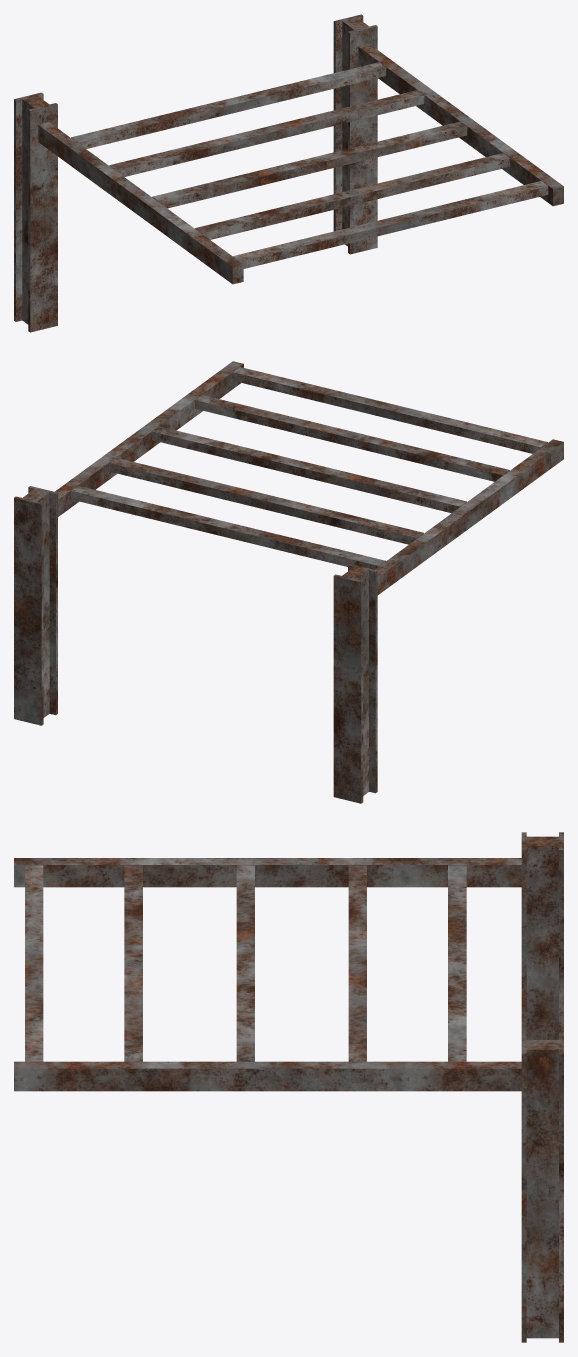
File: refinery_scaffolding.glb
The picture shows the model from 3 angles, top to bottom: view 1: azimuth 30°, elevation 25°; view 2: azimuth 150°, elevation 25°; view 3: azimuth 270°, elevation 25°; orthographic projection. The views are drawn at different scales.
Visible parts, largest first — view 1: Prop.refinery_scaffolding; view 2: Prop.refinery_scaffolding; view 3: Prop.refinery_scaffolding.
Part boxes in pixels (x1=…): Prop.refinery_scaffolding: x1=14, y1=14, x2=563, y2=332; Prop.refinery_scaffolding: x1=14, y1=361, x2=563, y2=803; Prop.refinery_scaffolding: x1=14, y1=832, x2=563, y2=1342.
Bounding box in the file's own units: 4.21 × 2.56 × 4.42.
Materials: 1 (1 with a texture image).
